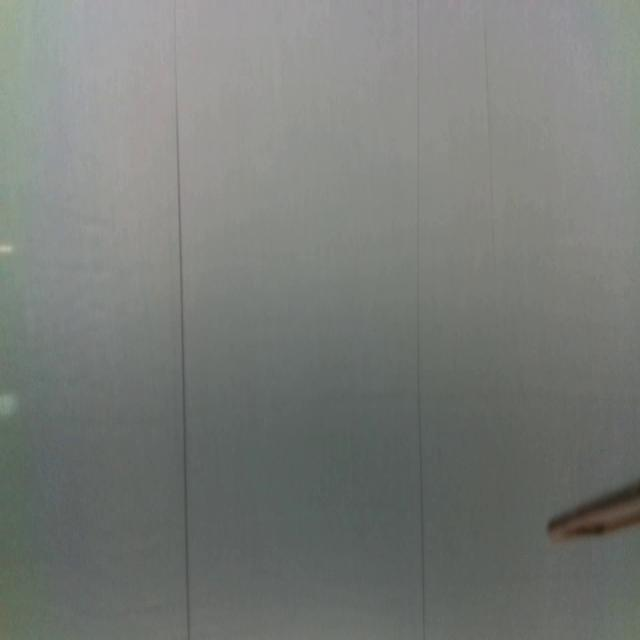crease: (173, 0, 191, 640), (414, 0, 427, 640), (482, 26, 496, 266)
